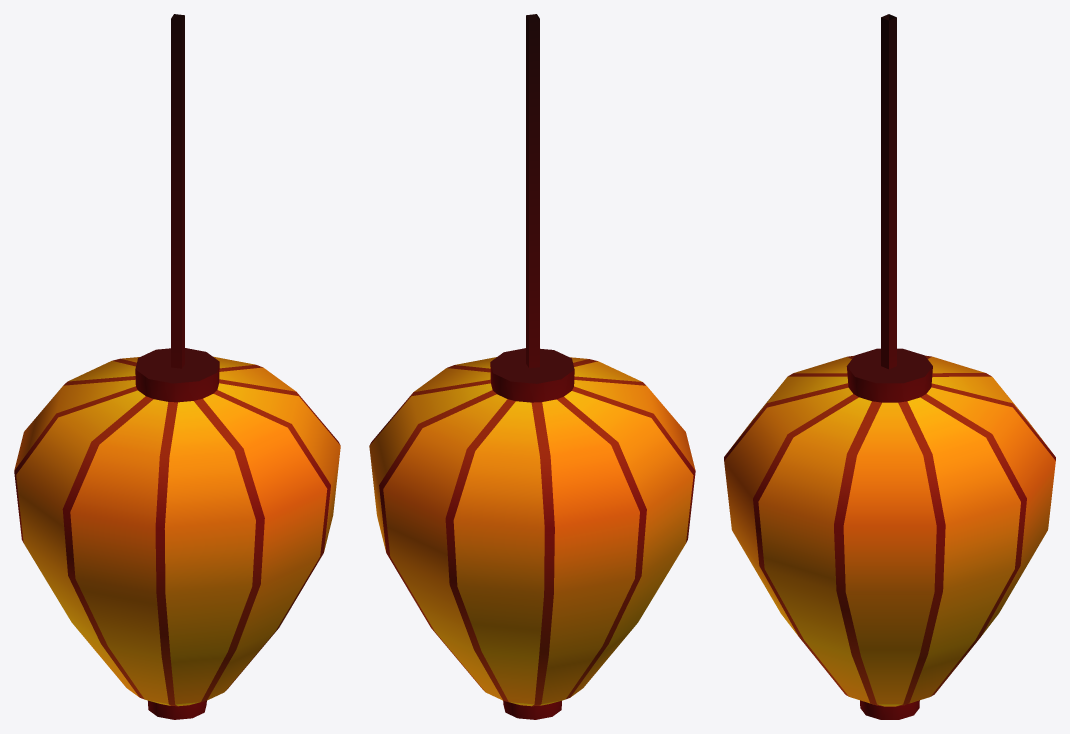
File: Lantern_C_03.FBX
The picture shows the model from 3 angles, left to right: view 1: azimuth 30°, elevation 25°; view 2: azimuth 150°, elevation 25°; view 3: azimuth 270°, elevation 25°; orthographic projection.
Visible parts, largest first — view 1: Lantern_C_03Light, Lantern_C_03; view 2: Lantern_C_03Light, Lantern_C_03; view 3: Lantern_C_03Light, Lantern_C_03.
Part boxes in pixels (box(x1,y1,x2,y2)): Lantern_C_03Light: box(14, 356, 340, 706); Lantern_C_03: box(135, 14, 219, 719); Lantern_C_03Light: box(369, 357, 695, 706); Lantern_C_03: box(490, 14, 574, 719); Lantern_C_03Light: box(724, 355, 1055, 706); Lantern_C_03: box(846, 14, 932, 719).
Size of the model in its own units: 40.51 by 96.91 by 42.19.
1 material, 1 textured.
